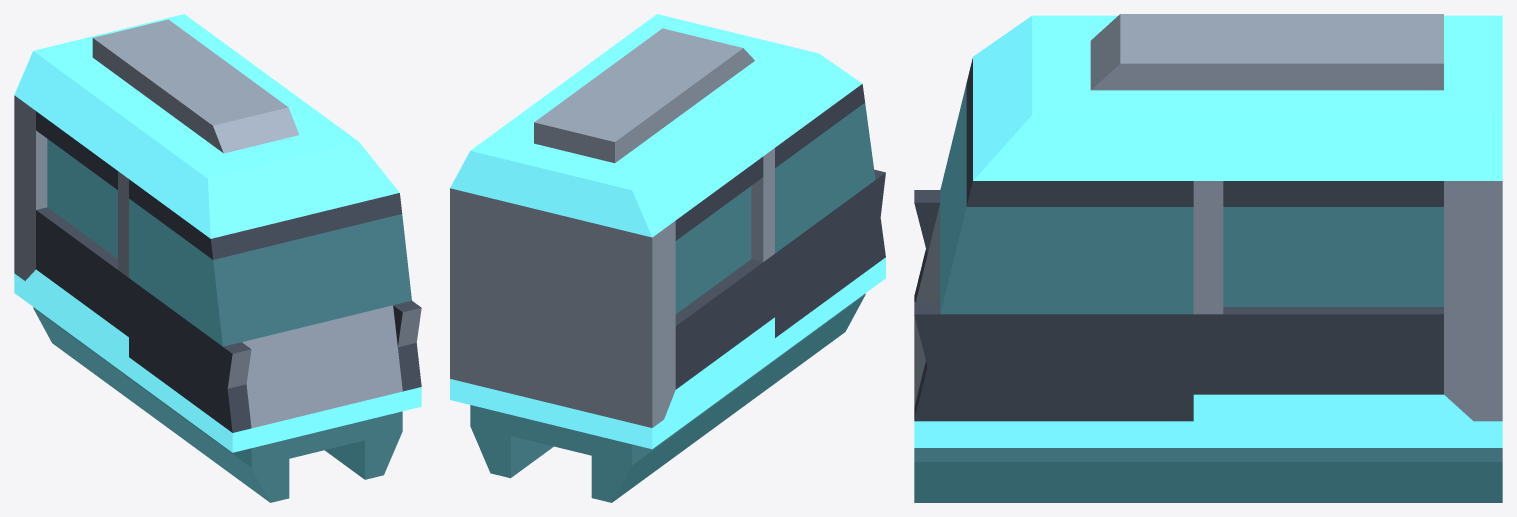
File: monorail_trainEnd.glb
3 renders of one model, left to right at view 1: azimuth 30°, elevation 25°; view 2: azimuth 150°, elevation 25°; view 3: azimuth 270°, elevation 25°, orthographic. The views are drawn at different scales.
Visible parts, largest first — view 1: monorail_trainEnd; view 2: monorail_trainEnd; view 3: monorail_trainEnd.
Part boxes in pixels (bbox=[...]): monorail_trainEnd: bbox=[14, 14, 421, 502]; monorail_trainEnd: bbox=[450, 14, 885, 502]; monorail_trainEnd: bbox=[914, 14, 1502, 502].
Bounding box in the file's own units: 0.5 × 0.8 × 1.
